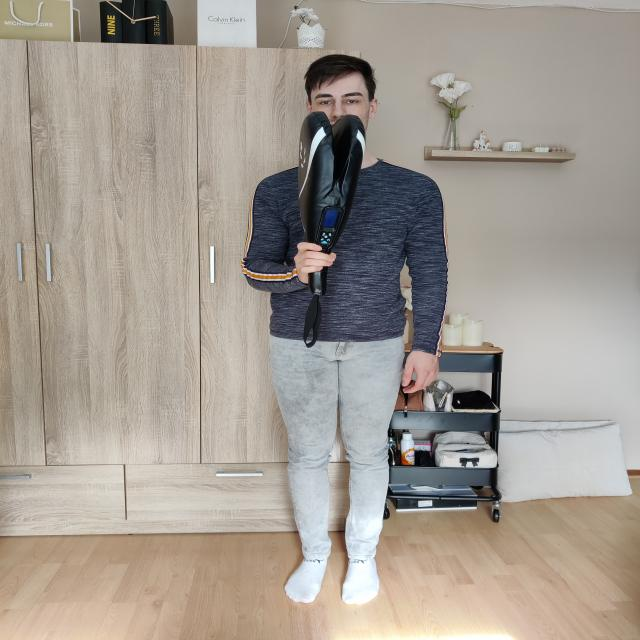paddle: (297, 110, 367, 296)
